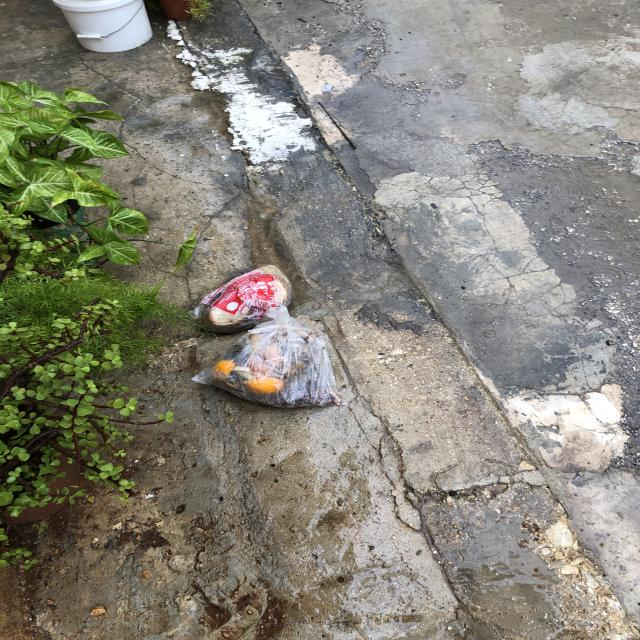Organic Waste -White Bag-: (190, 308, 345, 414), (189, 261, 293, 336)
